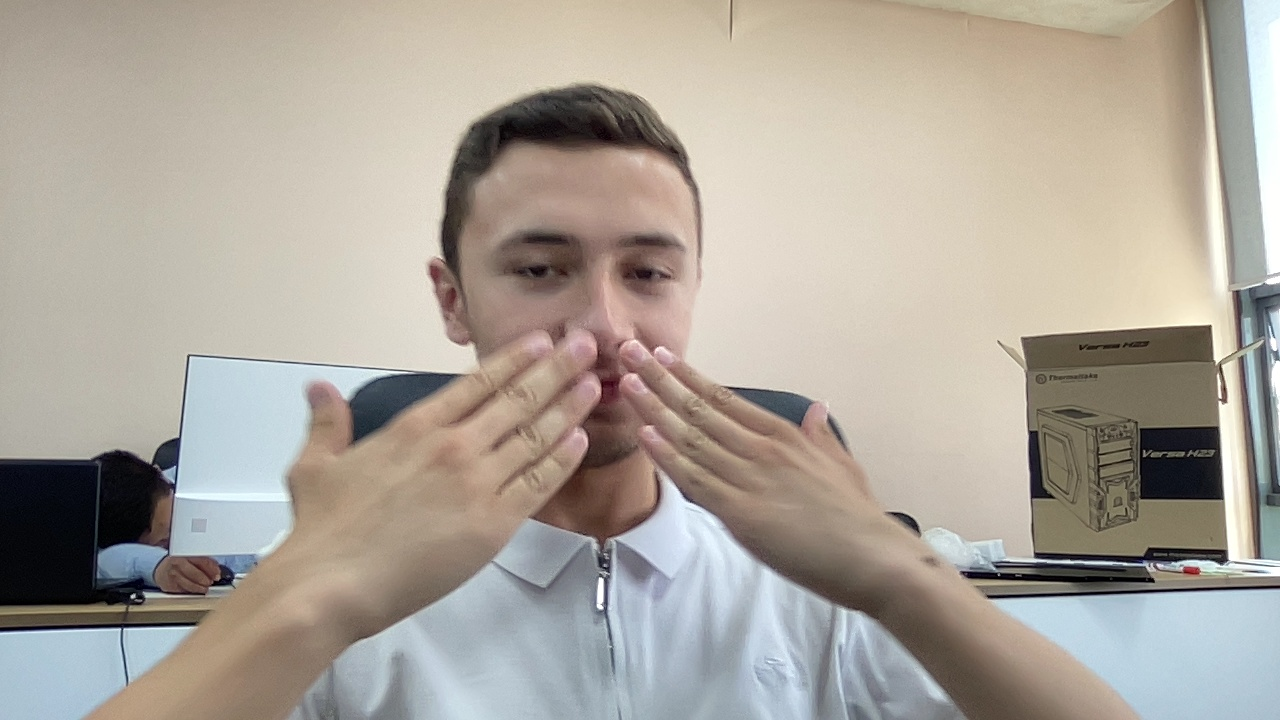thankyou: (295, 358, 929, 594)
